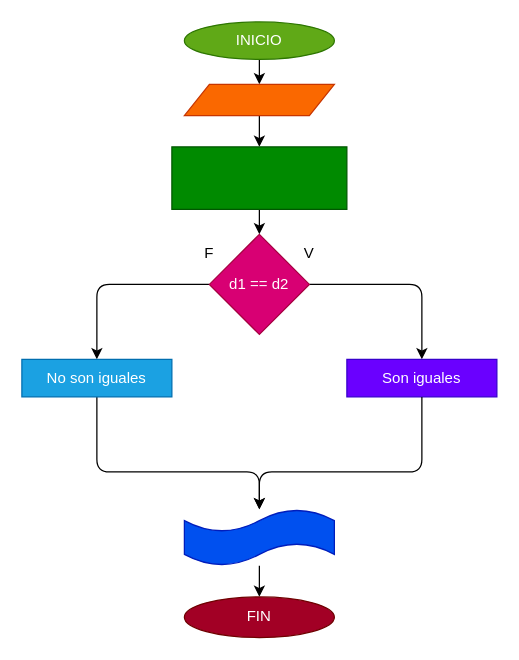
This 519x660 diagram has some shape labels left out. The shapes that lost their labels are listed below. From the top down, each one's box as (x1, y1, x2, y2) in pixels, then its label:
(183, 83, 334, 116): d1,d2,x
(171, 146, 347, 209): d1 = x%10 d2 = ( (x%100)-d1) // 10
(183, 508, 334, 566): condicion
